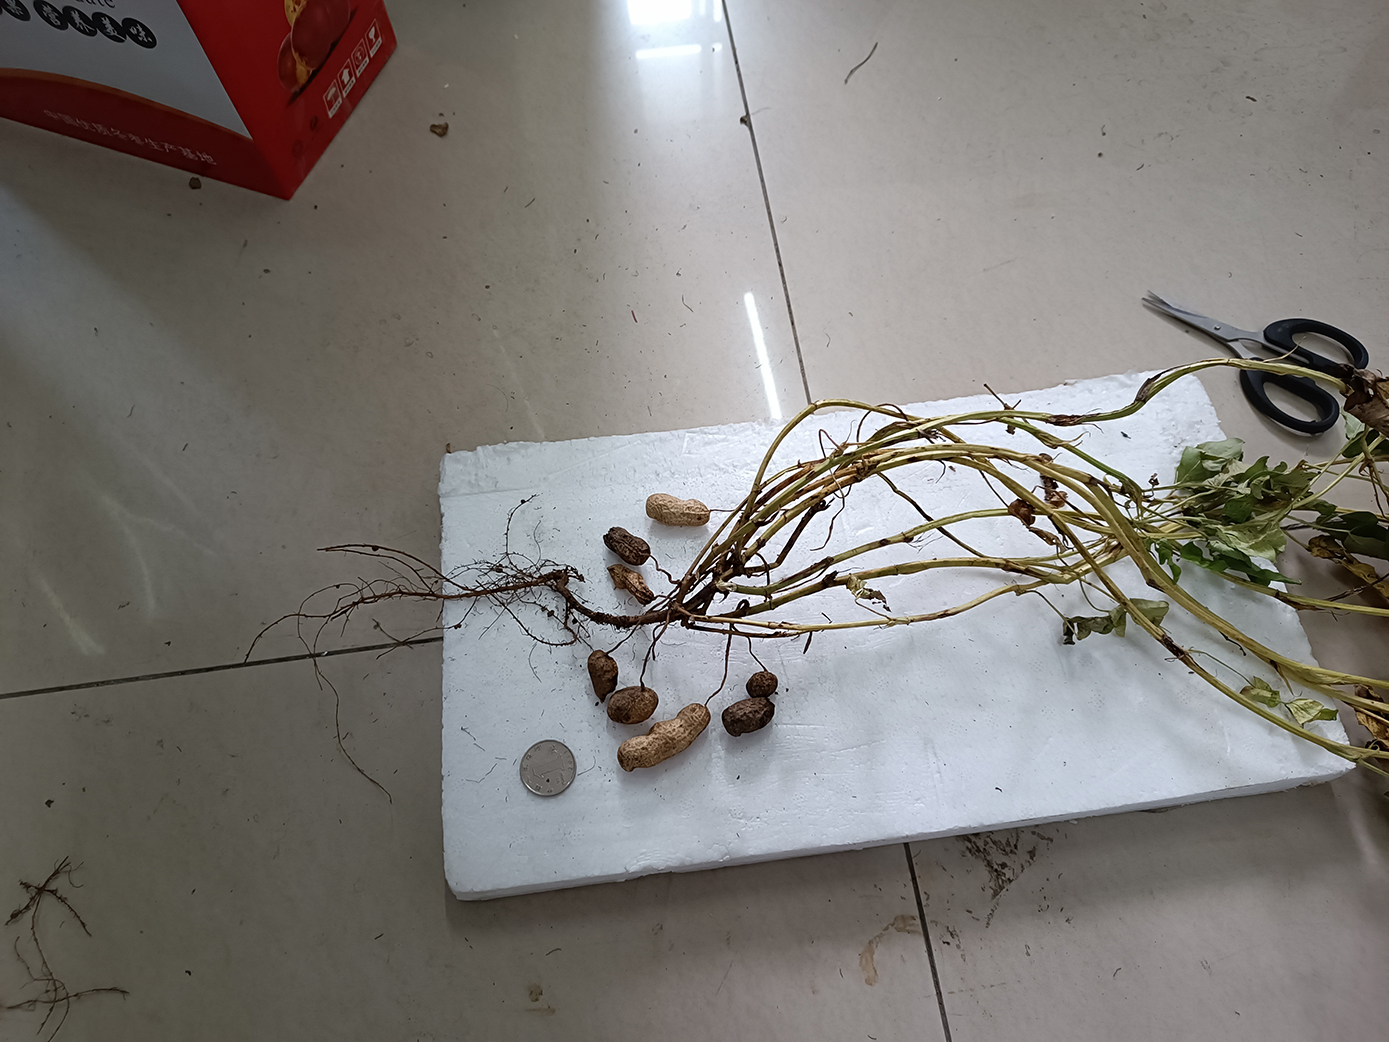h: (617, 703, 709, 769), (646, 493, 708, 524)
l: (601, 523, 653, 565), (722, 696, 776, 737), (605, 687, 658, 723), (607, 564, 653, 604), (587, 647, 620, 695), (745, 671, 778, 697)
